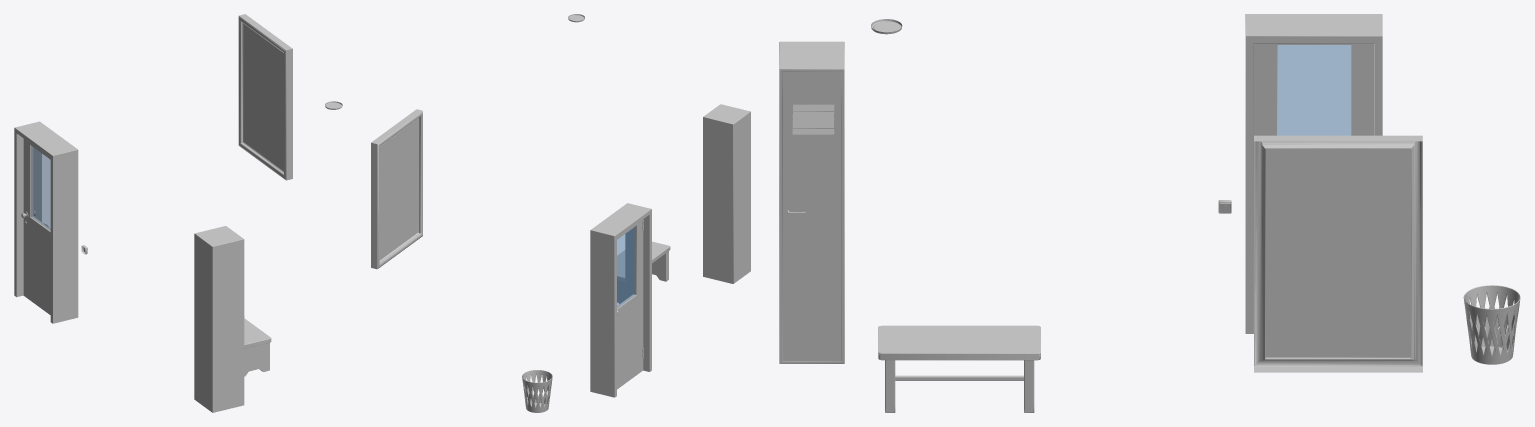
Rendered from SM_cloack_props.fbx.
3 views of the same model, side by side, from view 1: azimuth 30°, elevation 25°; view 2: azimuth 150°, elevation 25°; view 3: azimuth 270°, elevation 25° (orthographic). The views are drawn at different scales.
Visible parts, largest first — view 1: SM_Locker, SM_room_door_frame, SM_Mirror, SM_room_door, SM_Bench; view 2: SM_Locker, SM_room_door_frame, SM_Mirror, SM_room_door, SM_Bin, SM_Bench; view 3: SM_Mirror, SM_Locker_door, SM_room_door, SM_Bench, SM_room_door_frame, SM_Locker, SM_Bin.
Part boxes in pixels (x1,y1,x2,y2): SM_Locker: (194,226,244,412); SM_room_door_frame: (14,121,78,323); SM_Mirror: (238,14,292,180); SM_room_door: (21,139,50,314); SM_Bench: (244,318,271,376); SM_Locker: (703,104,750,283); SM_room_door_frame: (590,203,651,397); SM_Mirror: (371,109,422,269); SM_room_door: (617,219,643,389); SM_Bin: (522,370,552,412); SM_Bench: (617,241,670,303); SM_Mirror: (1254,135,1422,372); SM_Locker_door: (782,72,841,360); SM_room_door: (1254,43,1374,135); SM_Bench: (878,325,1040,412); SM_room_door_frame: (1245,14,1382,333); SM_Locker: (779,41,844,363); SM_Bin: (1463,285,1520,364).
Size of the model in its own units: 305 by 300 by 455.
